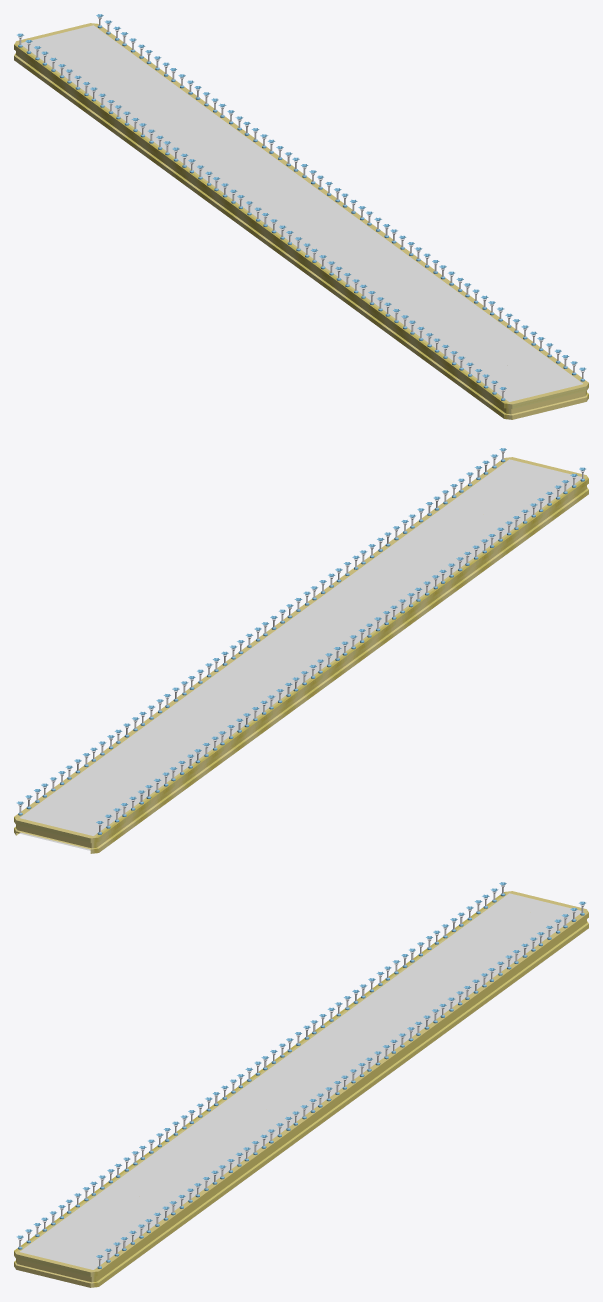
The model's file is CutsceneBridge.fbx.
3 renders of one model, top to bottom at view 1: azimuth 30°, elevation 25°; view 2: azimuth 150°, elevation 25°; view 3: azimuth 330°, elevation 25°, orthographic.
Visible parts, largest first — view 1: Stars, Gold, Torchs; view 2: Stars, Gold, Torchs; view 3: Stars, Gold, Torchs.
Part boxes in pixels (box(x1,y1,x2,y2)): Stars: box(21, 25, 582, 401); Gold: box(14, 23, 588, 419); Torchs: box(17, 14, 586, 400); Stars: box(19, 459, 581, 850); Gold: box(14, 457, 588, 853); Torchs: box(16, 448, 585, 834); Stars: box(20, 893, 581, 1269); Gold: box(14, 891, 588, 1287); Torchs: box(16, 882, 585, 1268).
Bounding box in the file's own units: 809 × 246 × 8100.
3 materials, 2 textured.
